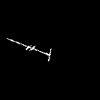treble_crochet: (11, 40, 50, 60)
